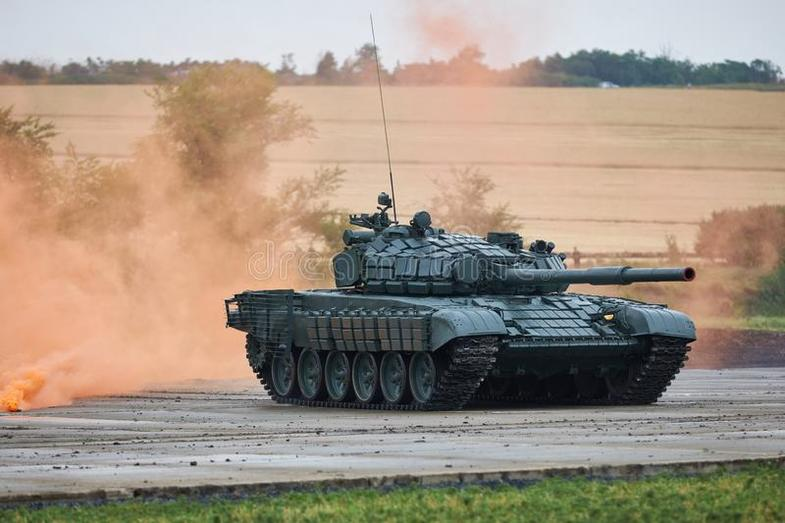t72: (231, 222, 702, 421)
